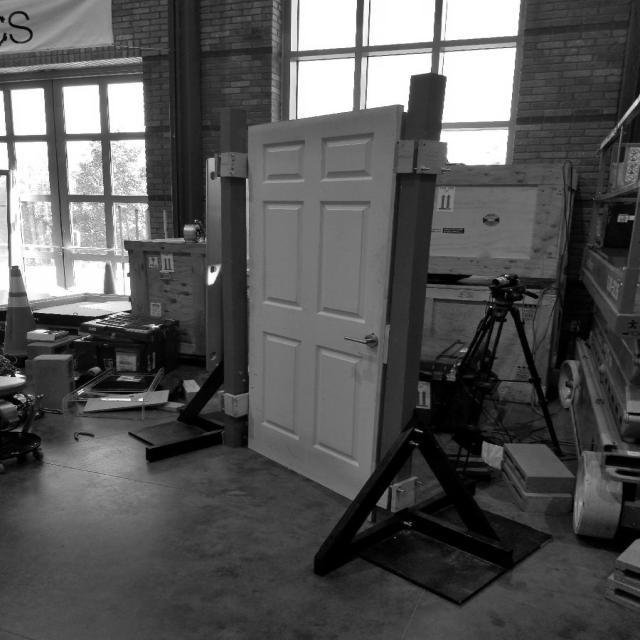door: (245, 102, 406, 512), (340, 329, 380, 352)
